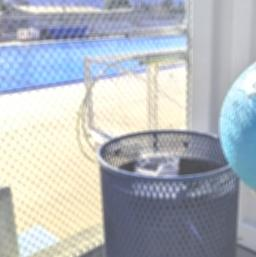algae: (218, 41, 256, 203)
